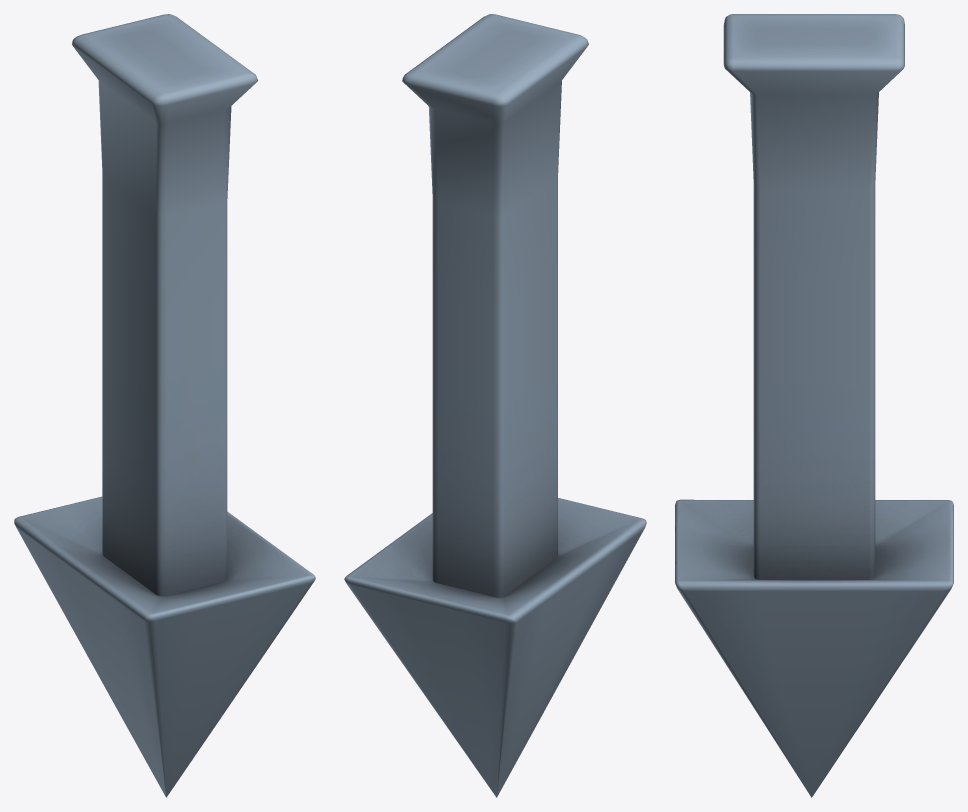
Rendered from DirectionForce.DAE.
3 views of the same model, side by side, from view 1: azimuth 30°, elevation 25°; view 2: azimuth 150°, elevation 25°; view 3: azimuth 270°, elevation 25° (orthographic). The views are drawn at different scales.
Visible parts, largest first — view 1: arrow_PIVOT; view 2: arrow_PIVOT; view 3: arrow_PIVOT.
Boxes of the visible parts, box(x1,y1,x2,y2) form: arrow_PIVOT: box(14, 14, 315, 797); arrow_PIVOT: box(344, 14, 646, 797); arrow_PIVOT: box(675, 14, 953, 797).
Bounding box in the file's own units: 30.75 × 42.44 × 128.
Materials: 1 (1 with a texture image).
